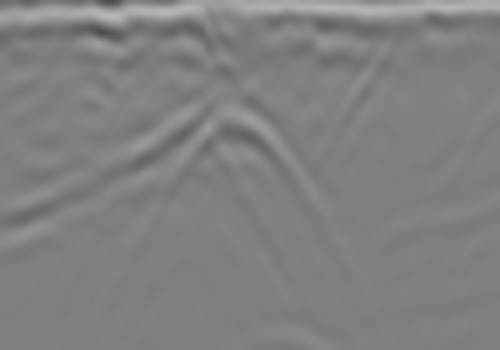hyperbola: (127, 102, 353, 285)
